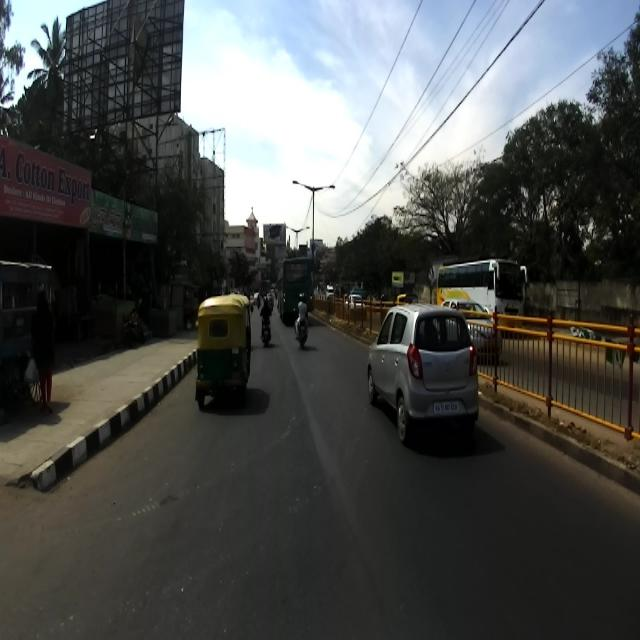Car_Maruti-Suzuki: (367, 305, 479, 443)
Car_TATA: (439, 298, 503, 369)
autorickshaw: (194, 292, 253, 410)
